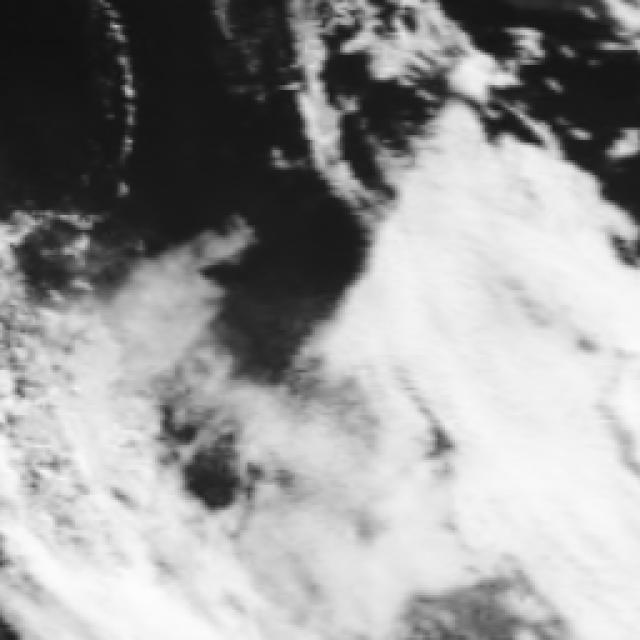CB: (396, 192, 600, 383), (453, 381, 640, 577), (93, 515, 302, 640), (288, 402, 432, 579)
